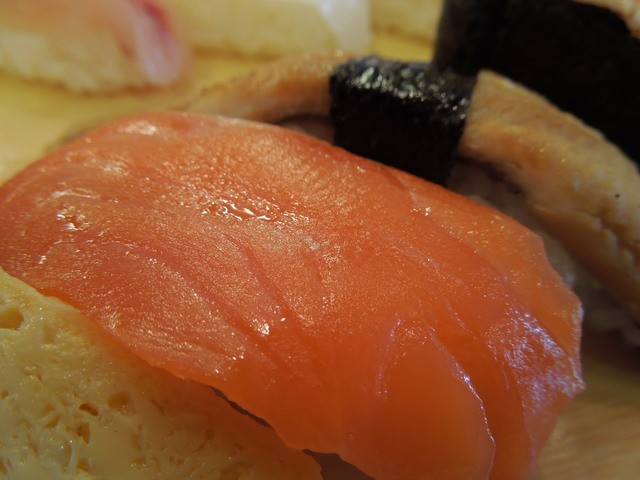salmon: (8, 108, 583, 480)
